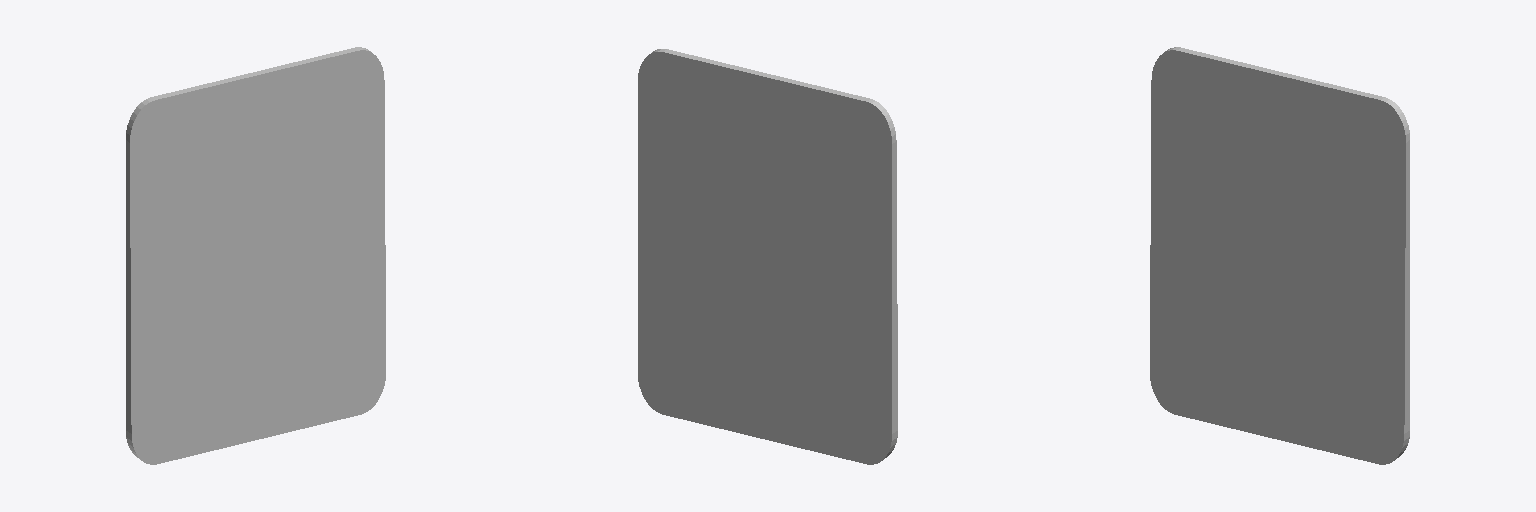
The model's file is tablet.obj.
The picture shows the model from 3 angles: view 1: azimuth 30°, elevation 25°; view 2: azimuth 150°, elevation 25°; view 3: azimuth 330°, elevation 25°; orthographic projection.
Visible parts, largest first — view 1: Cube_Cube.001; view 2: Cube_Cube.001; view 3: Cube_Cube.001.
Part boxes in pixels (x1,y1,x2,y2): Cube_Cube.001: (126,47,385,464); Cube_Cube.001: (638,49,897,464); Cube_Cube.001: (1150,47,1409,464).
Size of the model in its own units: 0.7264 by 0.9885 by 0.0306.